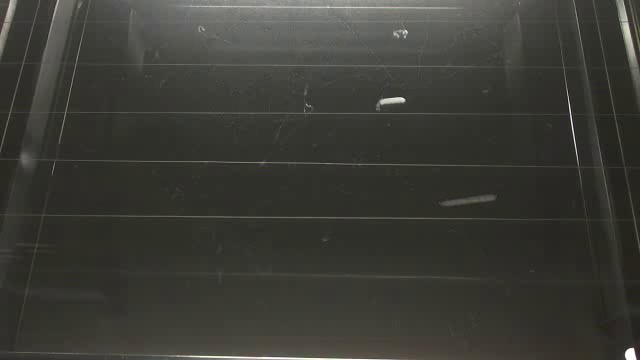Alfa: (438, 193, 500, 209), (375, 95, 408, 109)
